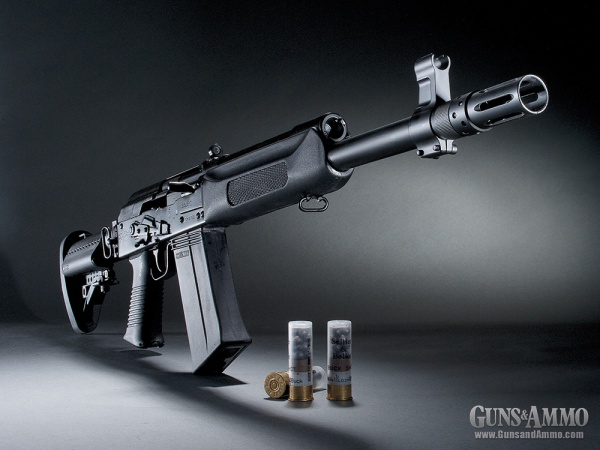ak47: (60, 56, 550, 348)
